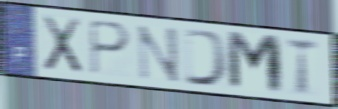D: (183, 27, 231, 90)
M: (225, 28, 286, 97)
N: (135, 23, 183, 86)
P: (87, 17, 132, 77)
T: (285, 35, 320, 98)
X: (39, 13, 84, 76)
